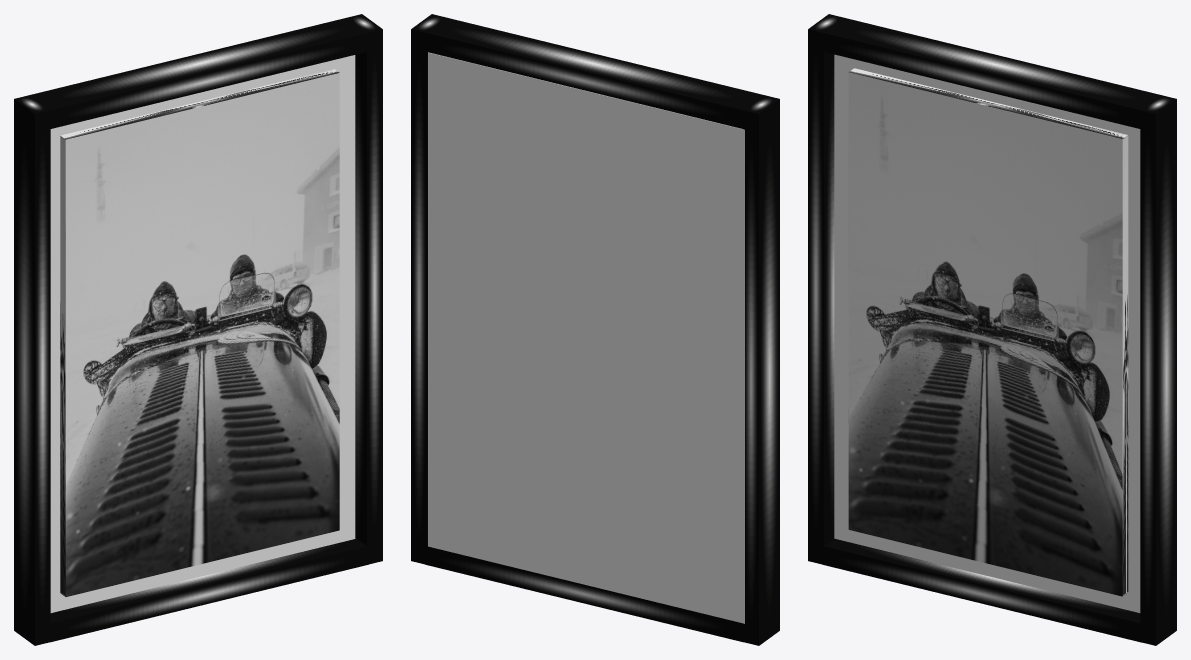
The model's file is frame-image5.glb.
The picture shows the model from 3 angles, left to right: view 1: azimuth 30°, elevation 25°; view 2: azimuth 150°, elevation 25°; view 3: azimuth 330°, elevation 25°; orthographic projection.
Visible parts, largest first — view 1: image, Cube (4), Cube, Cube (1), Cube (3), Cube (2); view 2: Cube, Cube (4), Cube (3), Cube (1), Cube (2); view 3: image, Cube (1), Cube, Cube (4), Cube (3), Cube (2).
Boxes of the visible parts, left/top/right/bottom form: image: left=60, top=69, right=339, bottom=597; Cube (4): left=14, top=95, right=50, bottom=645; Cube: left=50, top=55, right=355, bottom=612; Cube (1): left=347, top=14, right=382, bottom=564; Cube (3): left=30, top=17, right=367, bottom=128; Cube (2): left=50, top=538, right=366, bottom=641; Cube: left=428, top=52, right=744, bottom=623; Cube (4): left=744, top=95, right=779, bottom=645; Cube (3): left=425, top=18, right=763, bottom=129; Cube (1): left=411, top=14, right=447, bottom=564; Cube (2): left=425, top=546, right=743, bottom=642; image: left=848, top=68, right=1128, bottom=596; Cube (1): left=1140, top=95, right=1176, bottom=645; Cube: left=834, top=54, right=1140, bottom=612; Cube (4): left=808, top=14, right=843, bottom=564; Cube (3): left=824, top=18, right=1160, bottom=128; Cube (2): left=824, top=538, right=1141, bottom=642.
Bounding box in the file's own units: 193 × 282 × 20.01.
3 materials, 2 textured.
